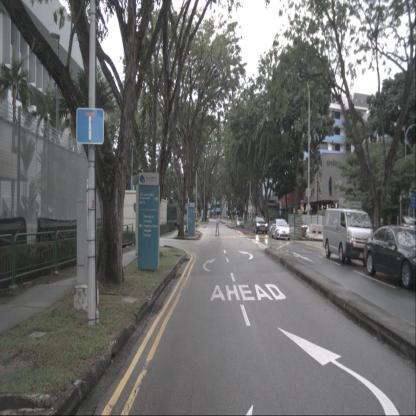human-pedestrian-adult: (215, 216, 220, 236)
movable_object-barrier: (310, 223, 325, 241)
vehicle-car: (364, 224, 416, 290), (323, 209, 374, 266), (271, 219, 290, 240), (252, 216, 268, 234), (236, 217, 244, 228)
